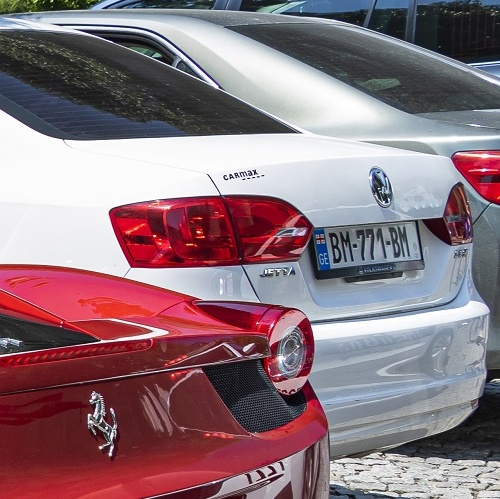plaka: (309, 217, 428, 282)
